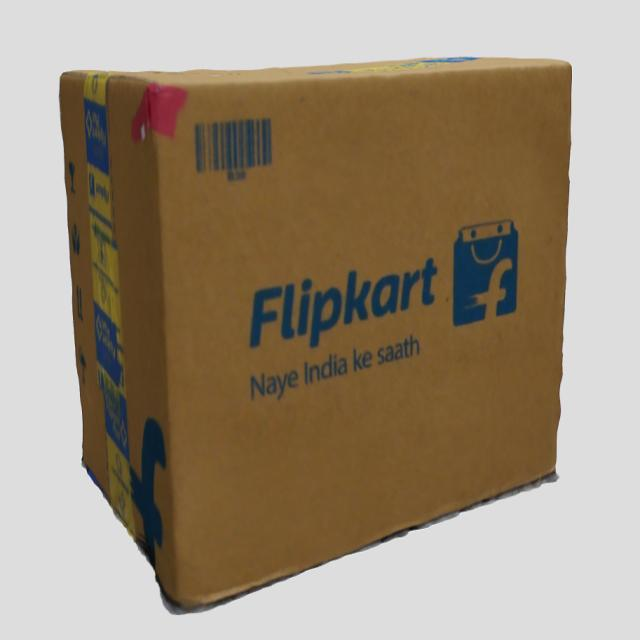cardboxes: (59, 58, 574, 616)
